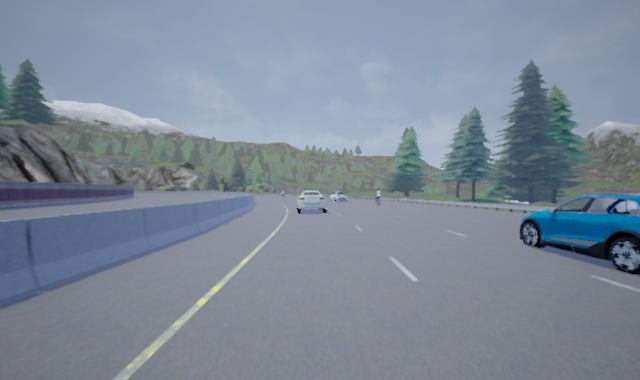bike: (375, 187, 382, 206)
vehicle: (519, 193, 639, 275), (295, 190, 327, 214), (330, 191, 348, 203)
